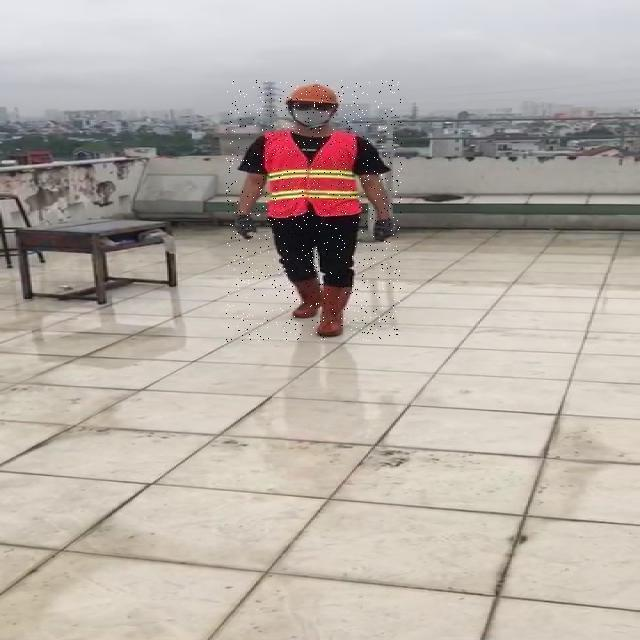gloves: (372, 217, 394, 242), (234, 214, 255, 239)
goggles: (294, 102, 334, 113)
helmet: (285, 83, 342, 104)
safety_vest: (265, 130, 361, 220)
